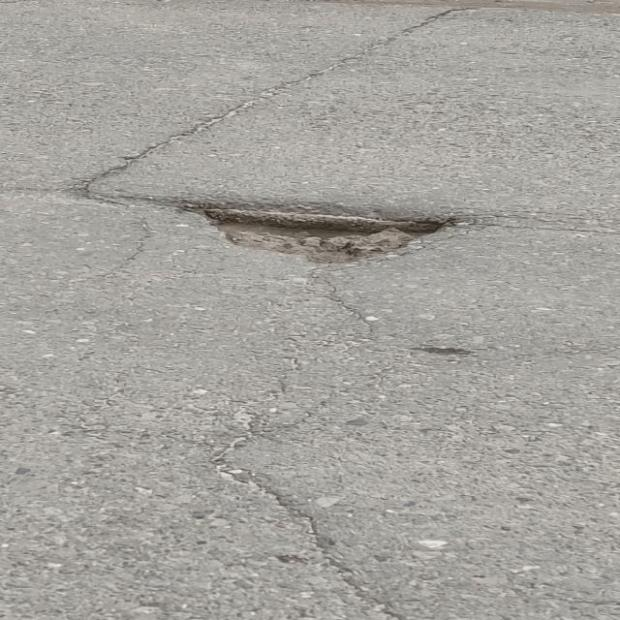lubang: (184, 202, 482, 262)
